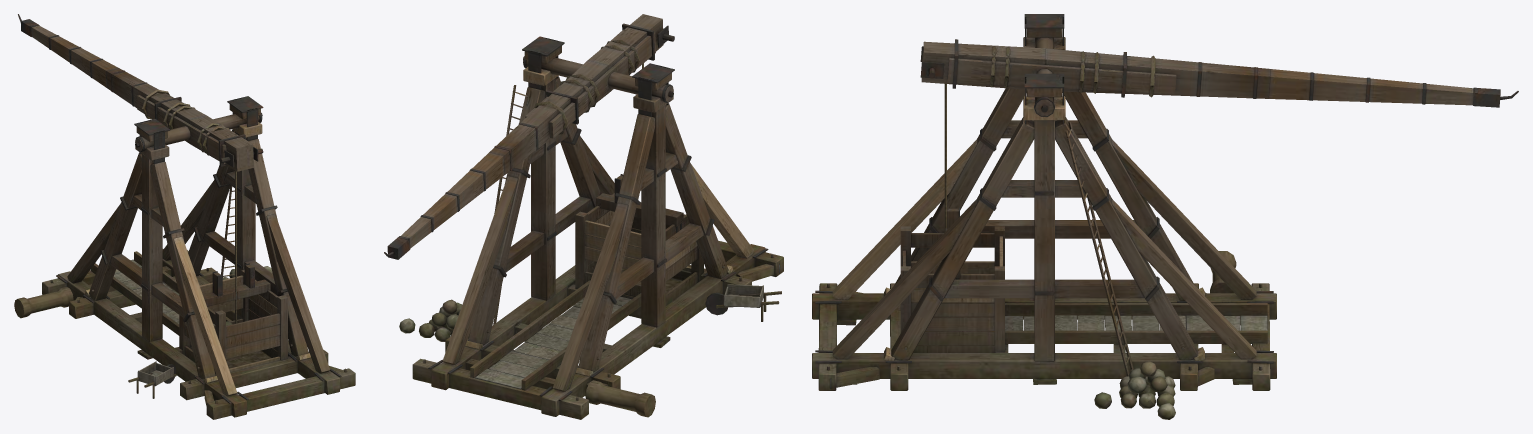
The model's file is trebuchet_assembling_2.glb.
The picture shows the model from 3 angles, left to right: view 1: azimuth 30°, elevation 25°; view 2: azimuth 150°, elevation 25°; view 3: azimuth 270°, elevation 25°; orthographic projection. The views are drawn at different scales.
Parts seen in each view (by area): view 1: body_LOD0; view 2: body_LOD0; view 3: body_LOD0.
Part boxes in pixels (x1,y1,x2,y2): body_LOD0: (14, 14, 355, 419); body_LOD0: (384, 14, 783, 419); body_LOD0: (812, 14, 1518, 419).
Size of what is drawn, in the model's own units: 7.48 by 7.09 by 15.05.
1 material, 1 textured.
